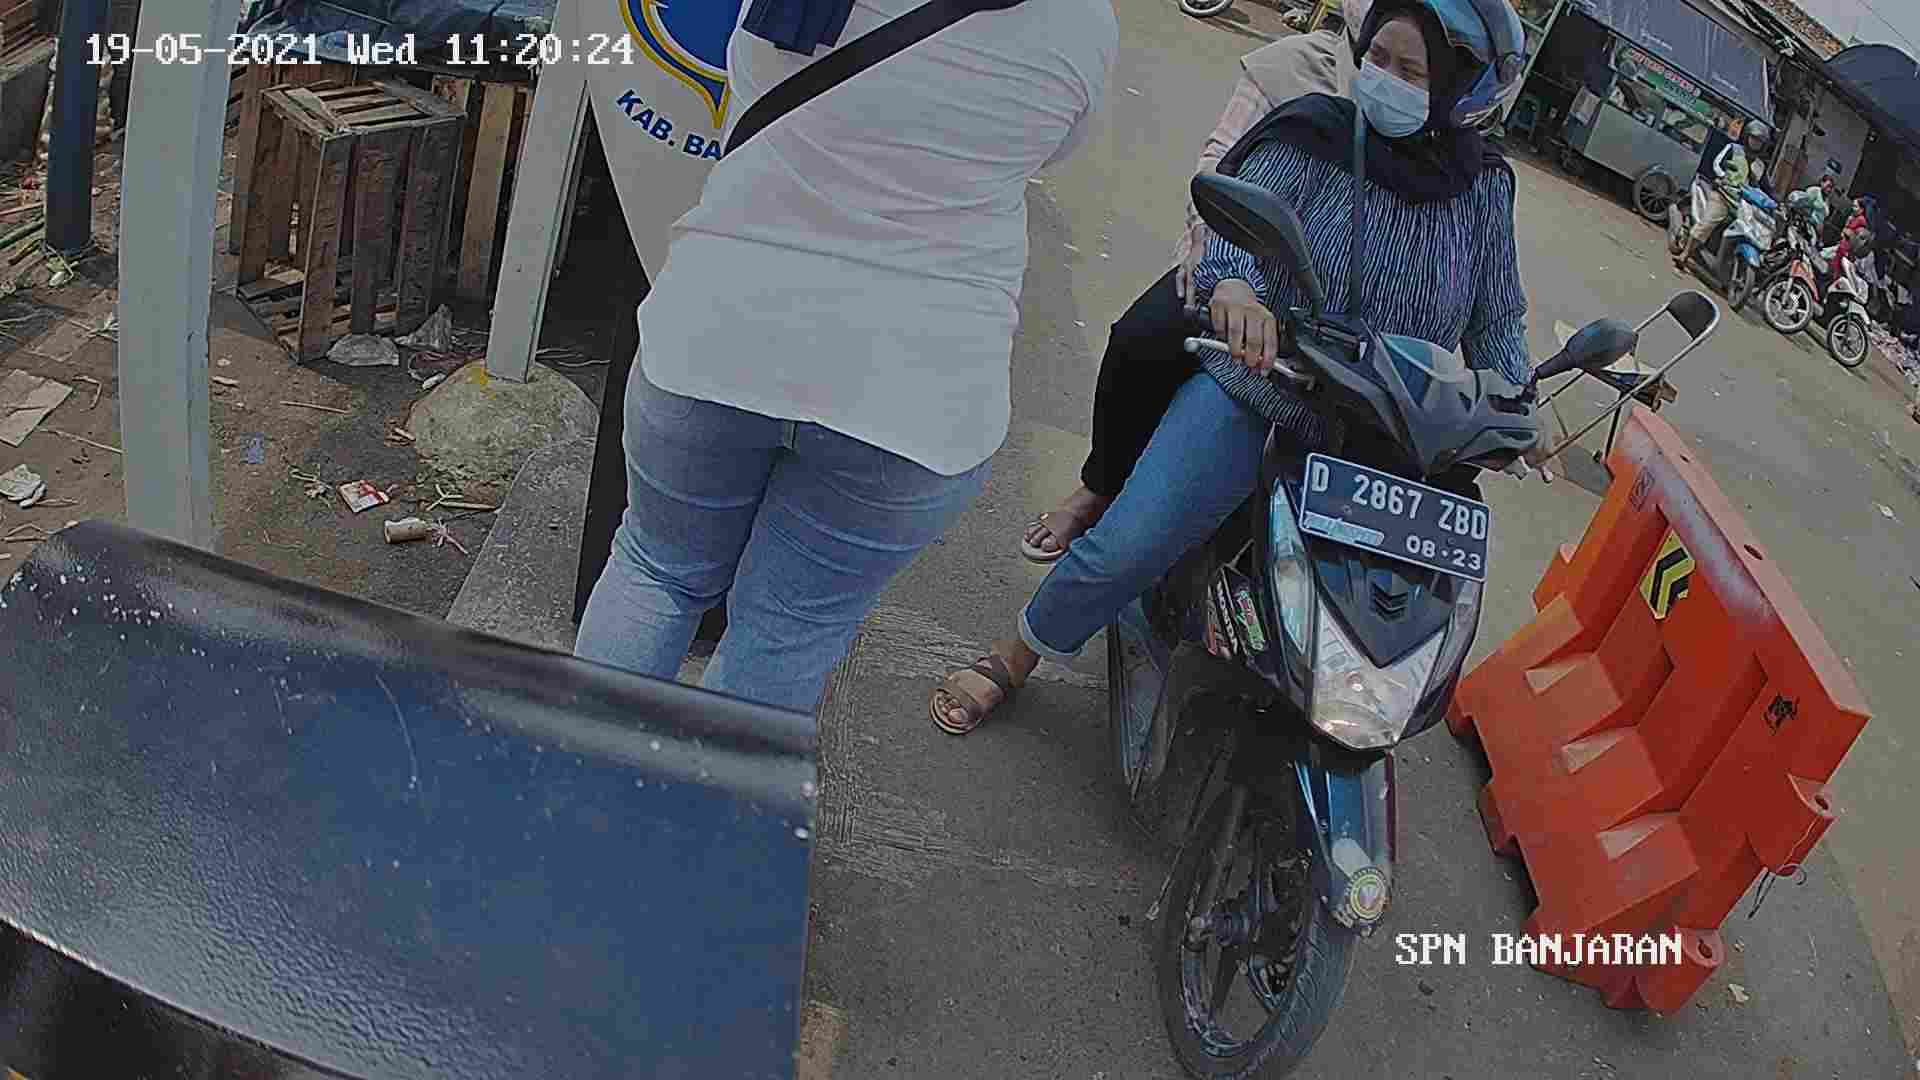motor: (1067, 287, 1528, 1080)
